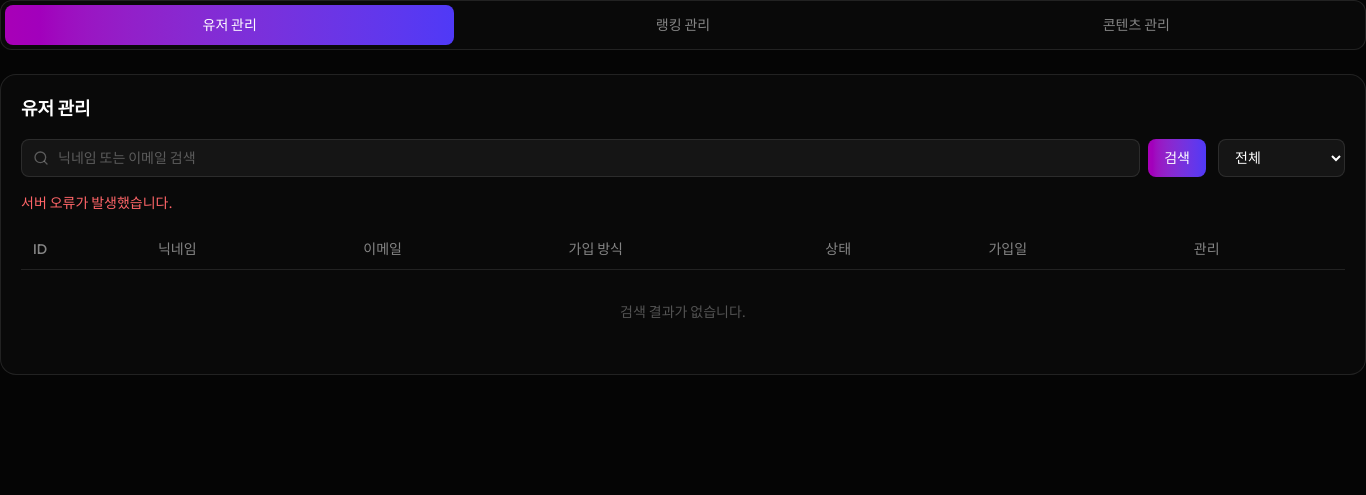
AdminTabs › 랭킹 관리 탭 클릭 시 랭킹 관련 컴포넌트를 렌더링해야 한다
This screenshot has width=1366, height=495.
Click the button "랭킹 관리".
click(683, 25)  # box [458, 5, 908, 45]
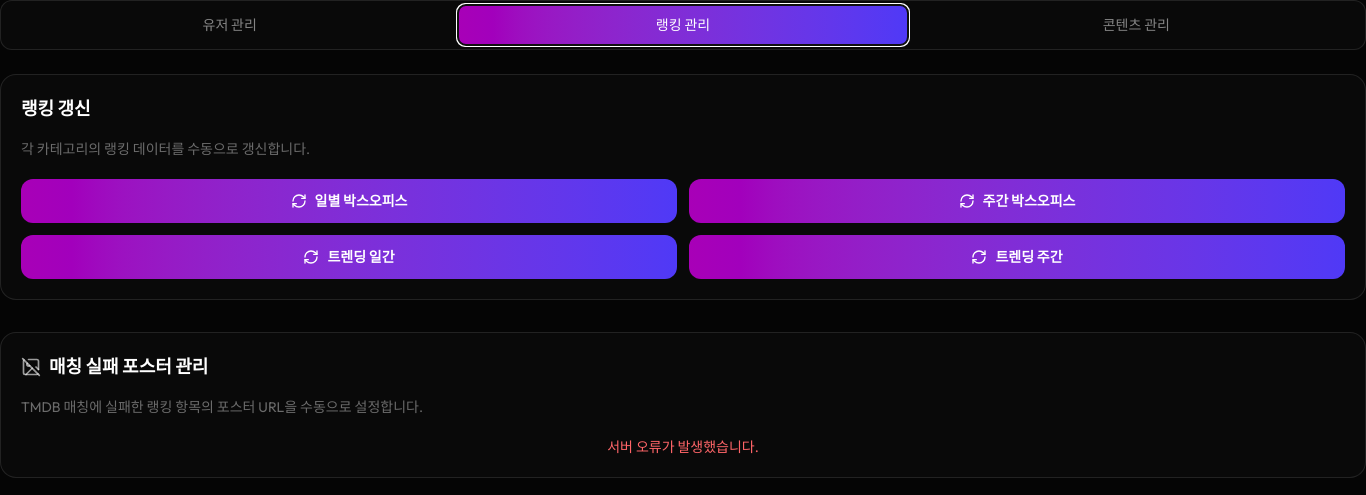
Check: the heading "랭킹 갱신" is shown, box [21, 97, 91, 120]
